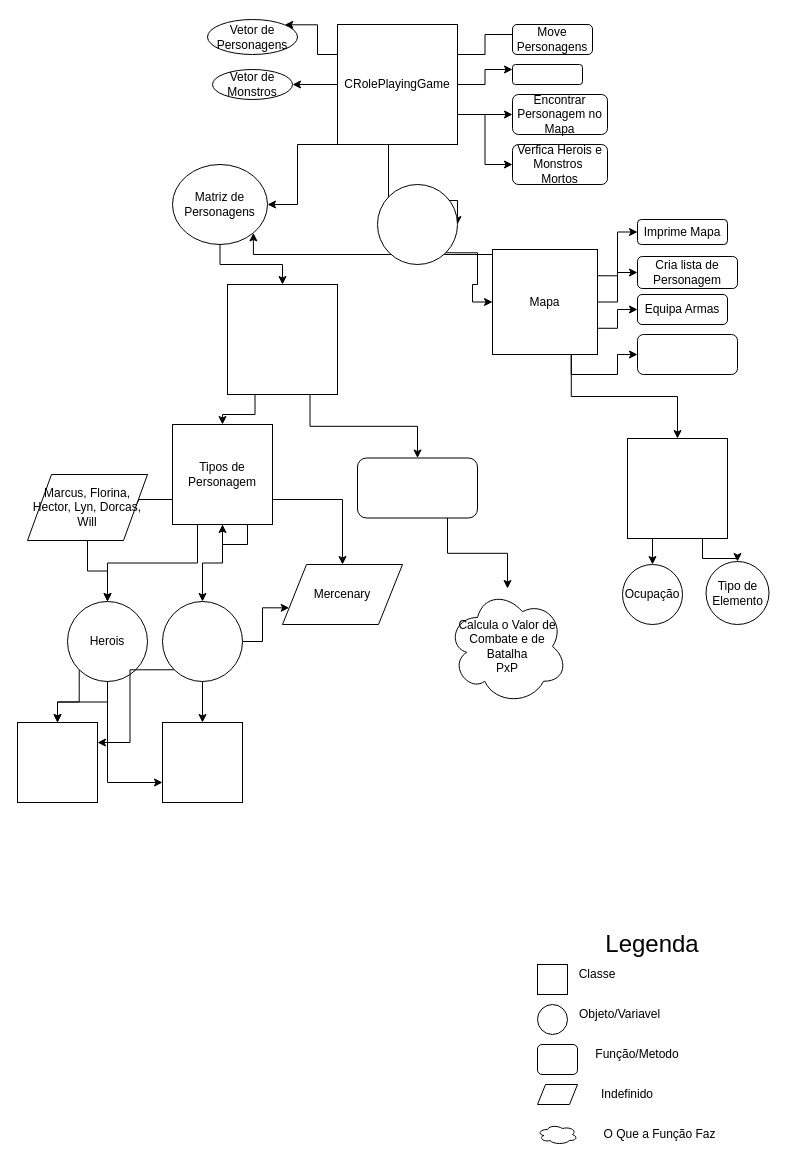
Some shapes in this 787 by 1162 pixel diagram are drawn without their labels. The shapes that lost their labels are listed below. From the top down, each one's centre as x and y in pixels, then its label:
At [547,74]: "Exibir Mapa".
At [417,224]: "Mapa de Terrenos".
At [282,339]: "Personagem".
At [687,354]: "Retorna Elemento no Mapa".
At [417,487]: "Ataque".
At [677,488]: "Terreno".
At [202,641]: "Monstros".
At [57,762]: "Arma".
At [202,762]: "Healing Item".
